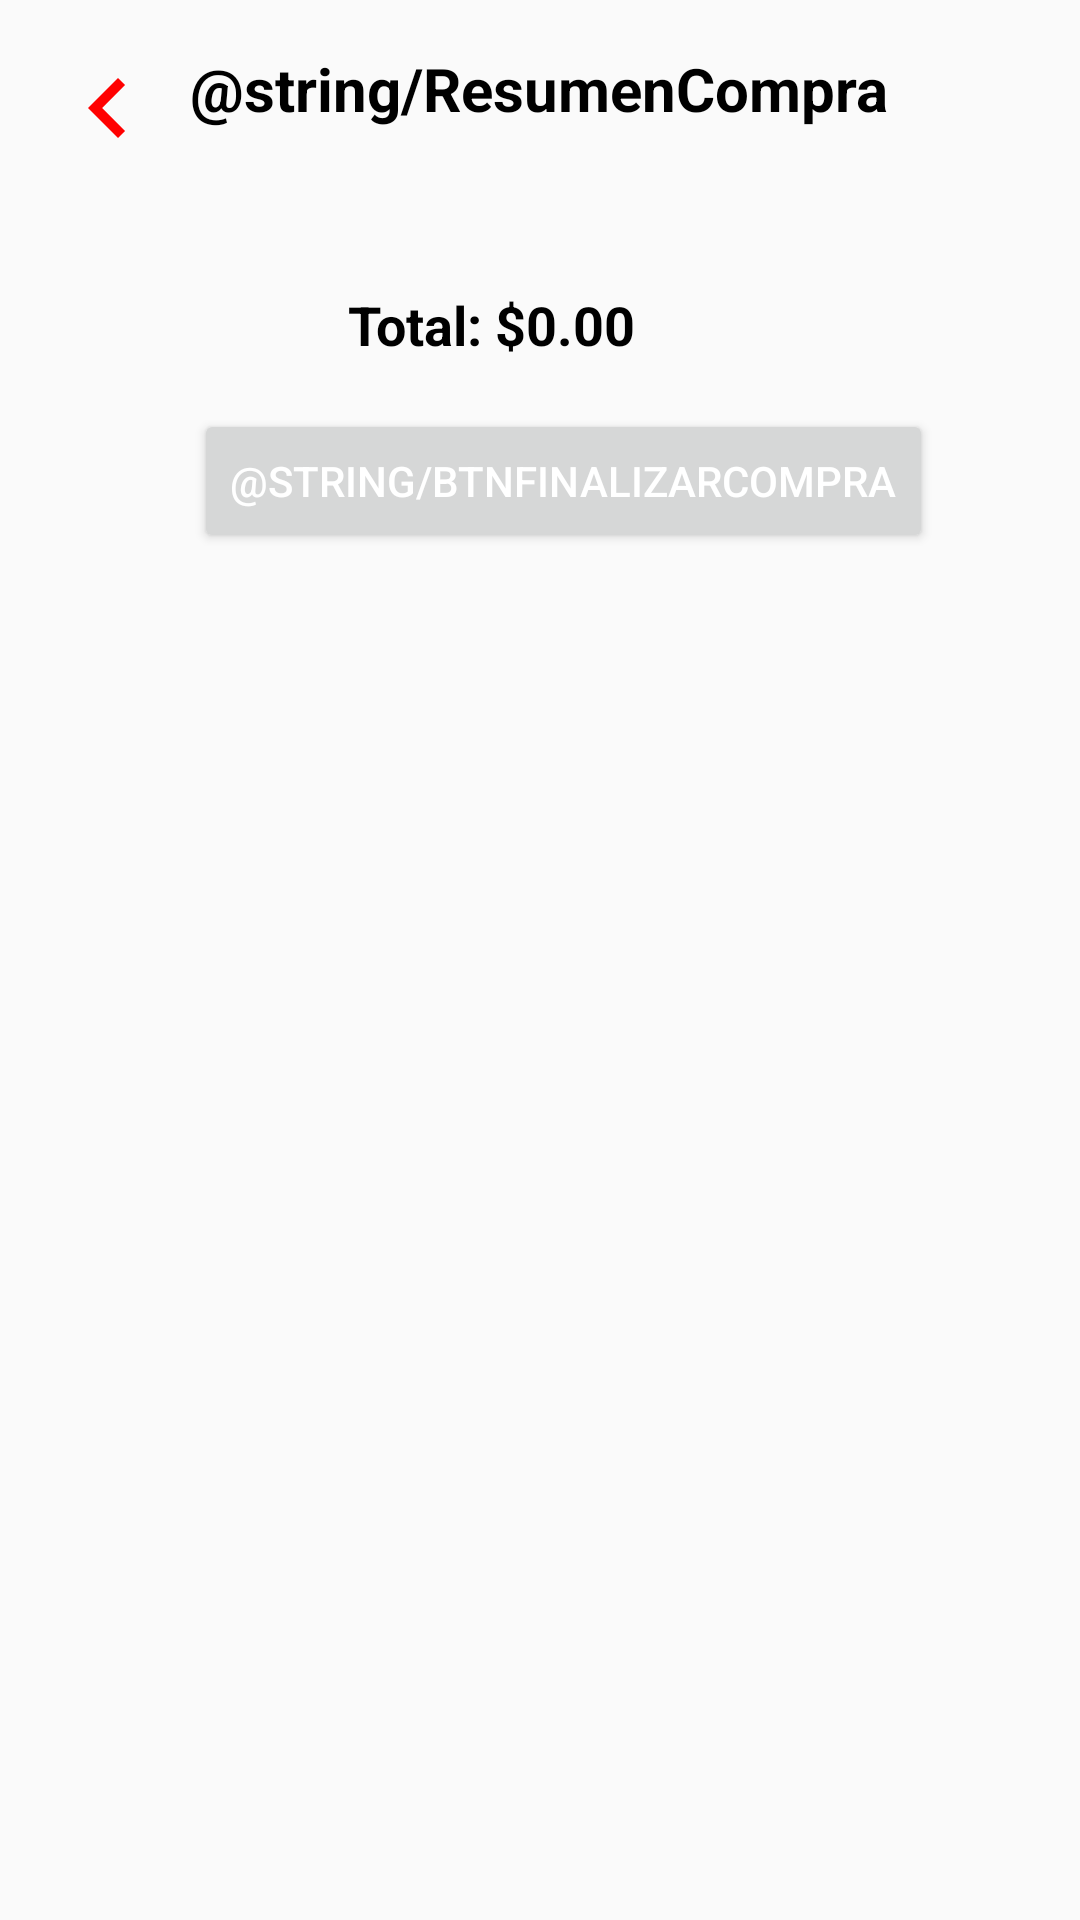

Icons on this 1080 x 1920 Android screen, each with its box as (x1, y1, x2, y2):
back arrow: (88, 78, 125, 138)
